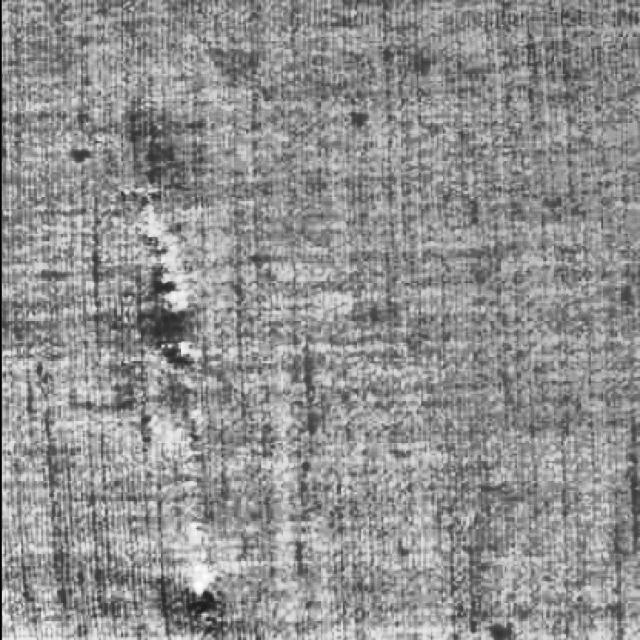thread_error: (113, 178, 234, 638)
